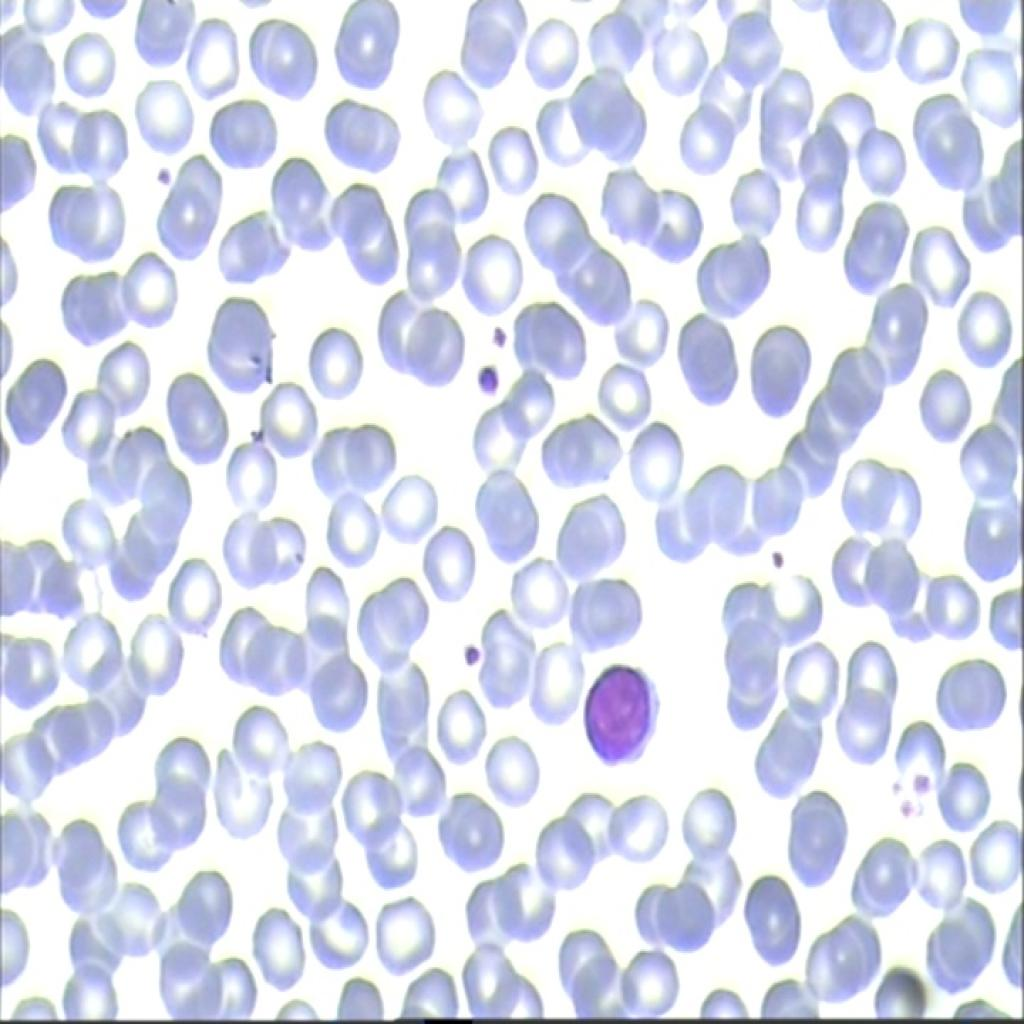Limfosit: (572, 654, 664, 774)
Platelet: (445, 626, 489, 674), (471, 361, 509, 402), (758, 539, 796, 576), (907, 756, 936, 802), (148, 158, 175, 196), (883, 761, 909, 798), (894, 788, 914, 830), (478, 318, 503, 348)
